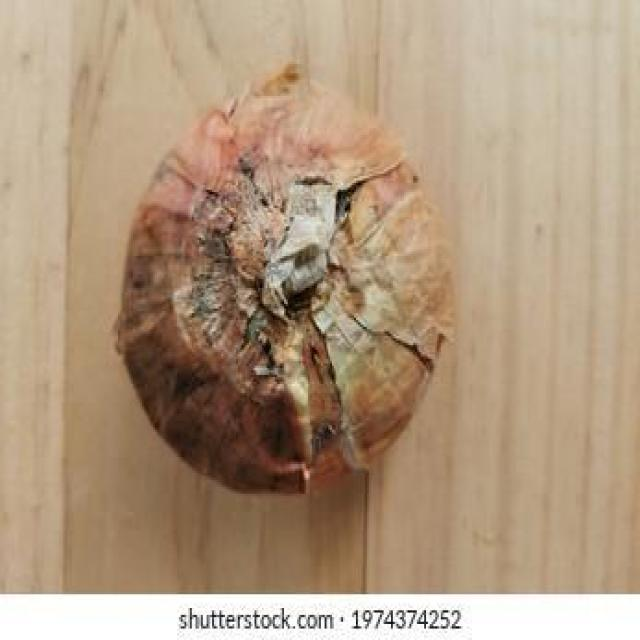Onion: (115, 62, 458, 498)
